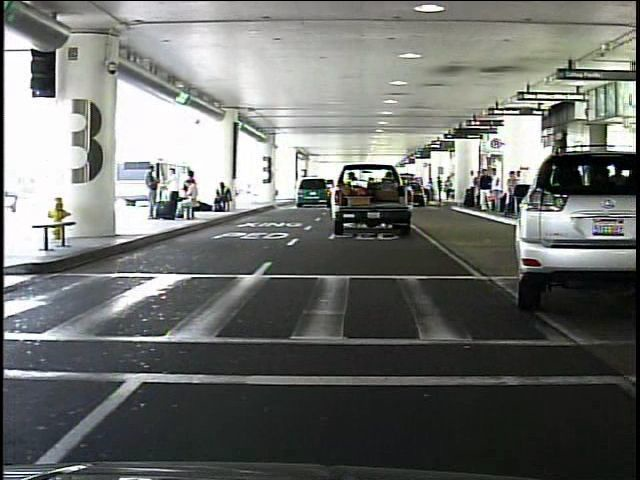person: (142, 163, 163, 222), (477, 168, 495, 215), (490, 166, 503, 216), (434, 174, 445, 205)
